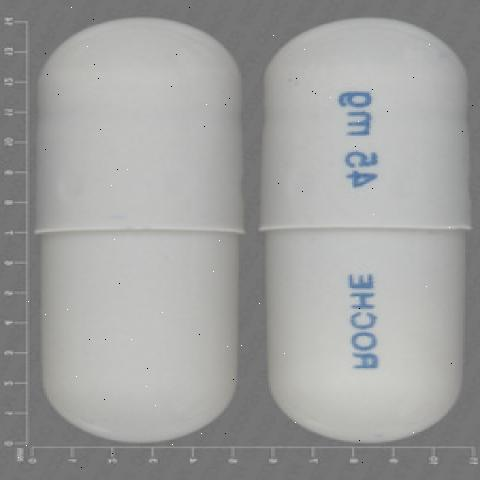Pill: (16, 12, 257, 456), (250, 7, 472, 461)
